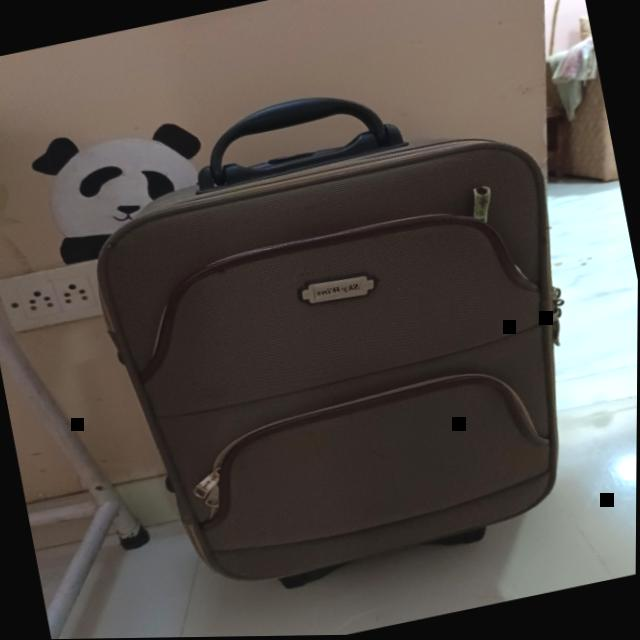luggage: (74, 107, 617, 614)
